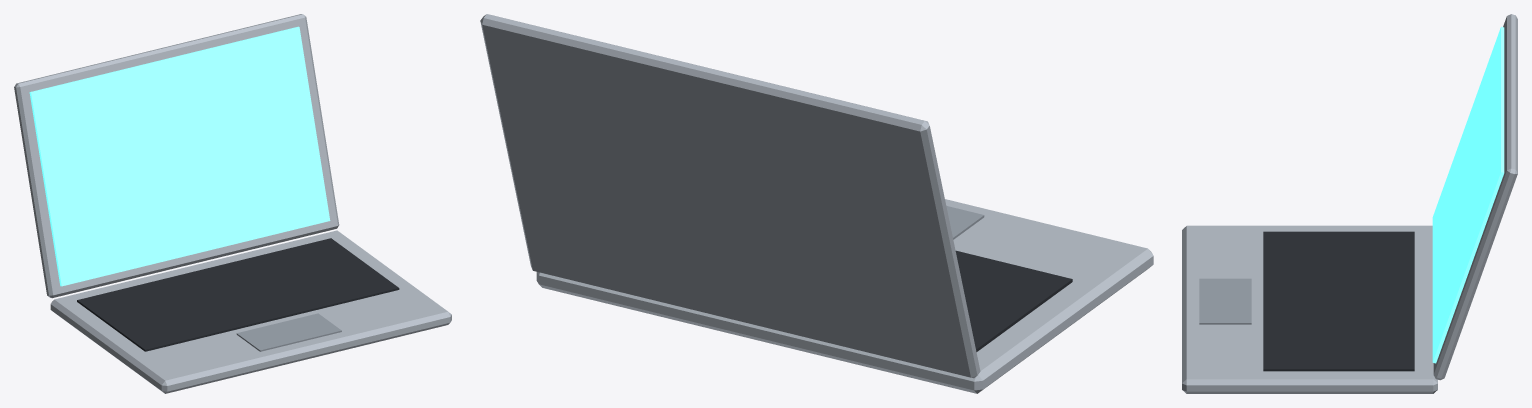
Rendered from laptop.glb.
3 renders of one model, left to right at view 1: azimuth 30°, elevation 25°; view 2: azimuth 150°, elevation 25°; view 3: azimuth 270°, elevation 25°, orthographic. The views are drawn at different scales.
Visible parts, largest first — view 1: laptop; view 2: laptop; view 3: laptop.
Boxes of the visible parts, x1=… form: laptop: x1=14, y1=14, x2=451, y2=393; laptop: x1=480, y1=14, x2=1153, y2=393; laptop: x1=1182, y1=14, x2=1517, y2=393.
Size of the model in its own units: 0.32 by 0.2143 by 0.2887.
